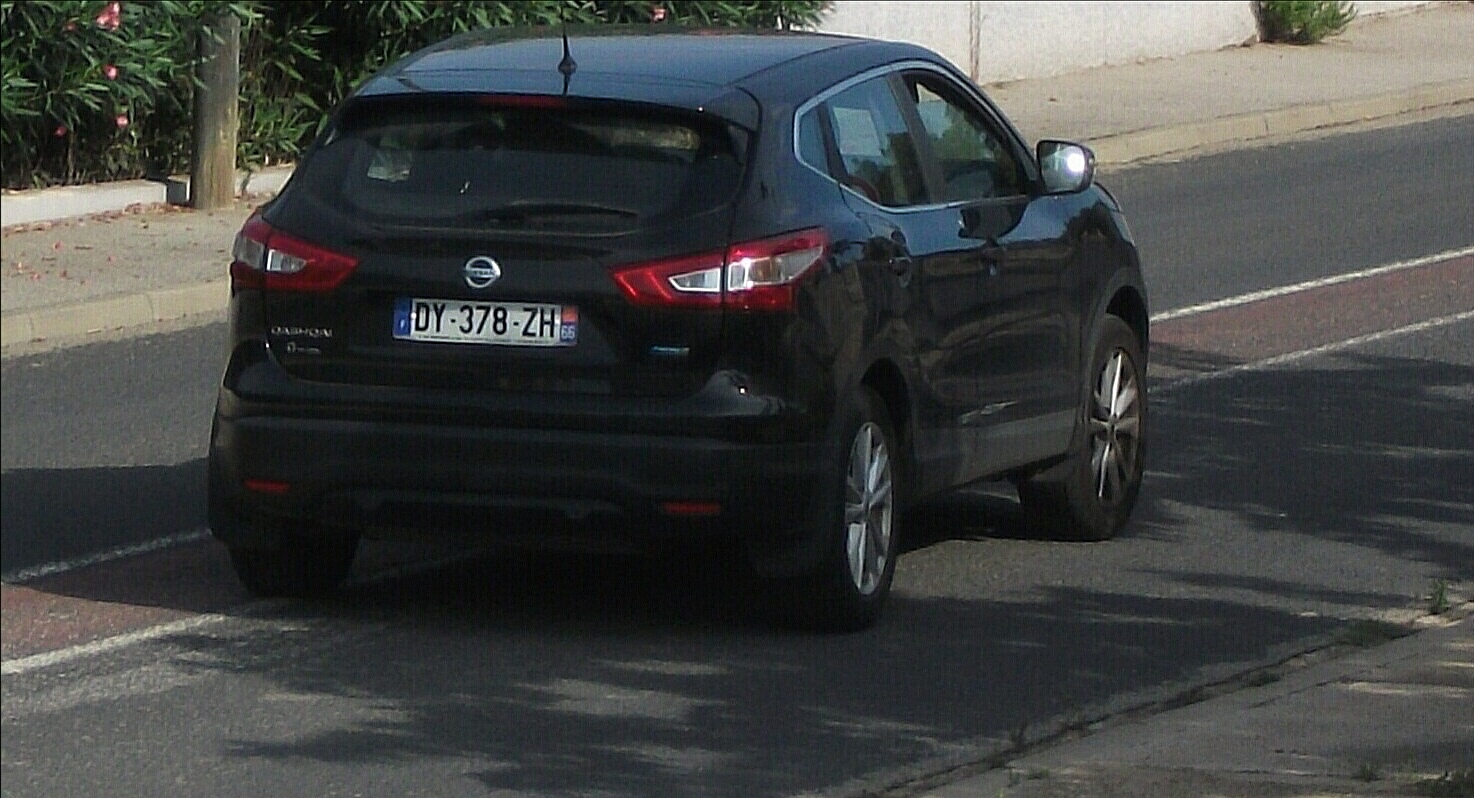licence plate: (386, 291, 579, 351)
